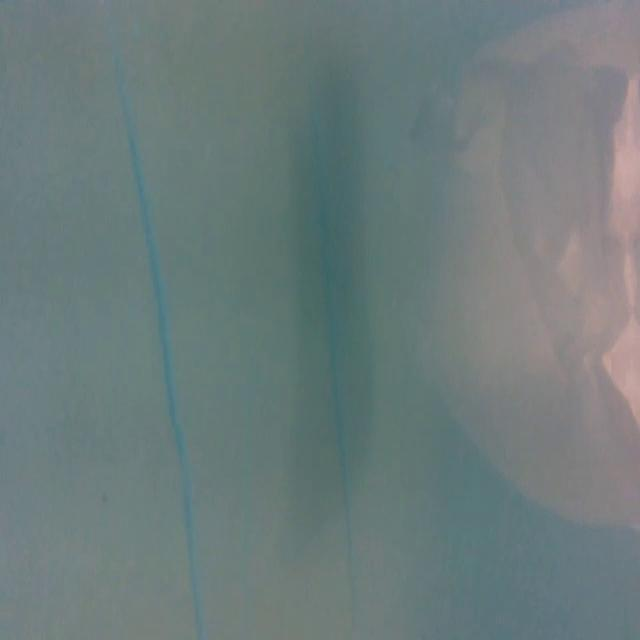plastic bags: (429, 0, 640, 539)
